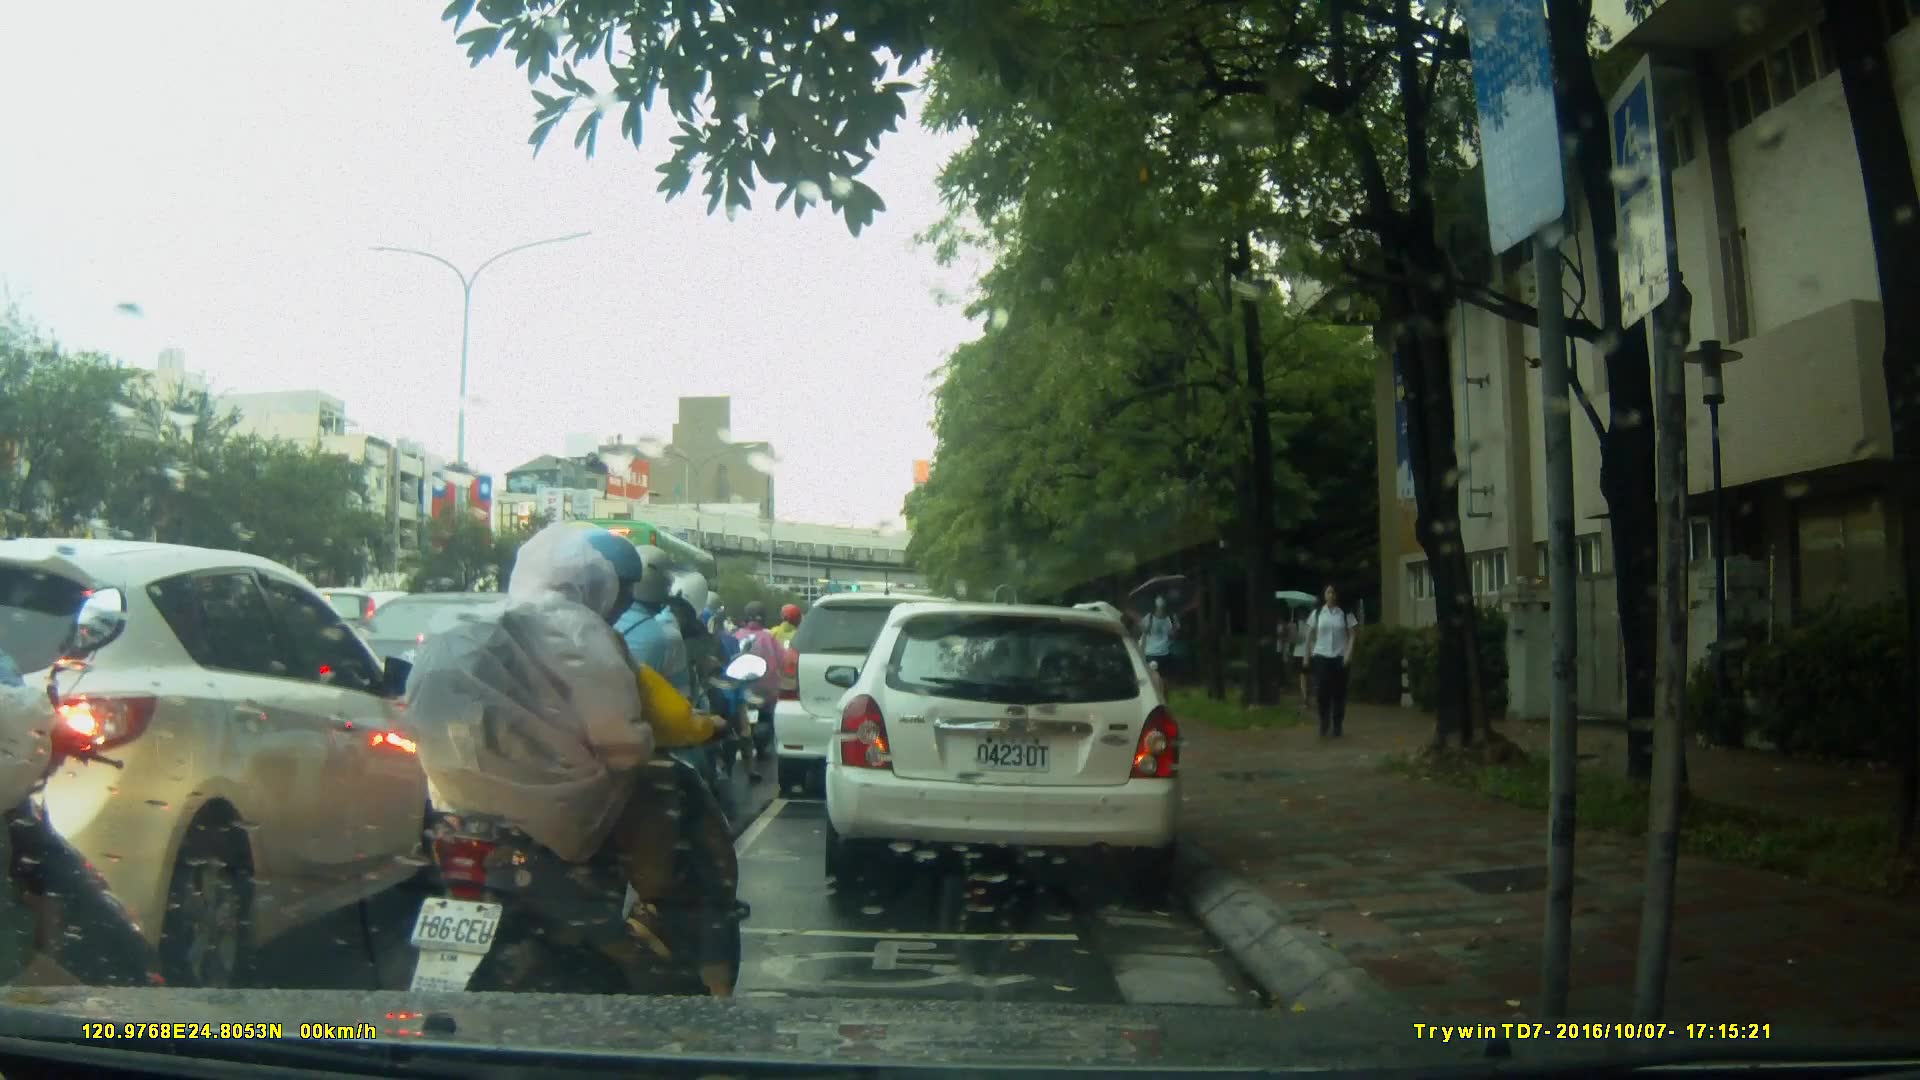pedestrian: (1299, 583, 1360, 739), (1128, 587, 1182, 723)
rider: (393, 515, 753, 1071), (1, 581, 180, 1080), (541, 546, 731, 886), (610, 571, 745, 863), (720, 601, 783, 763), (760, 603, 819, 742)
vehicle: (1, 537, 443, 988), (822, 604, 1186, 881), (774, 595, 995, 802), (554, 519, 739, 666)
